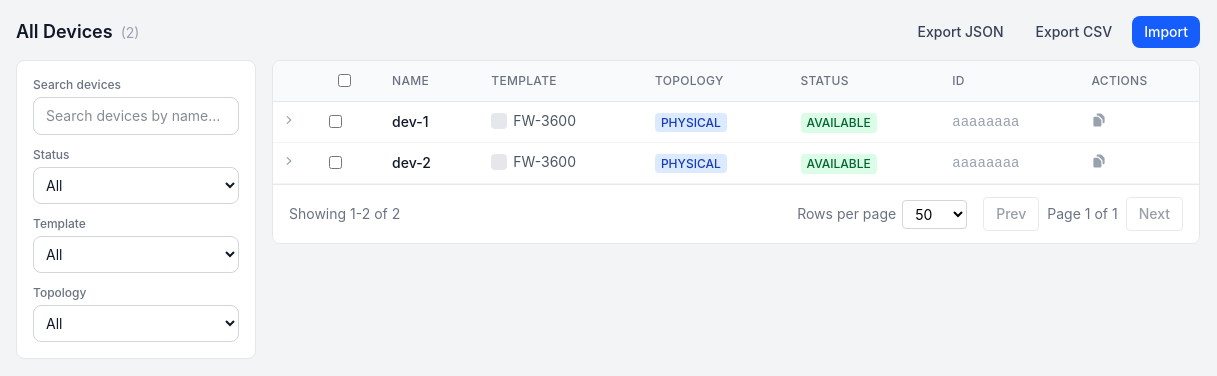
it: InventoryPage › select-all checkbox › re-selecting all after a partial selection selects the rest rather than clearing
Expected: the text "dev-1" is shown, [376,102,475,142]
Click the checkbox next to "dev-1". click: (336, 122)
box: [329,115,342,128]
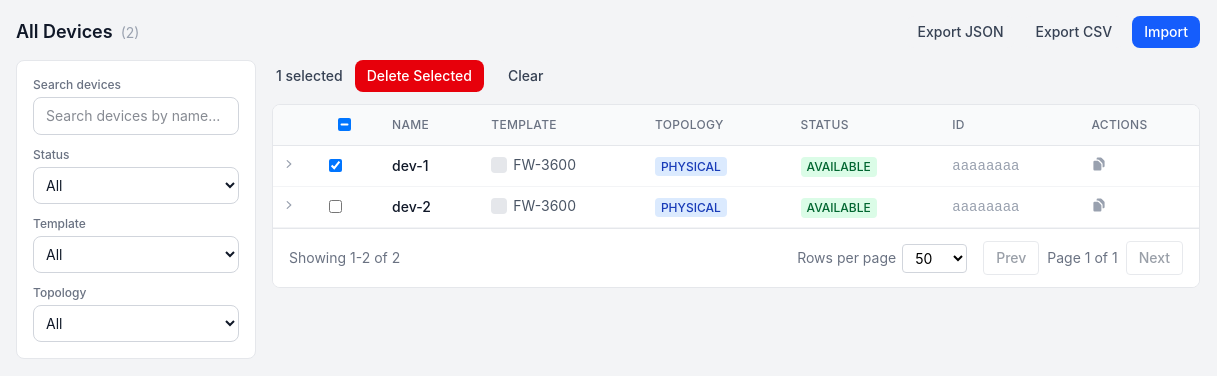
Expected: the text "1 selected" is shown, [276,66,343,86]
Click the checkbox next to "Name". click: (344, 124)
box: [338,118,351,131]
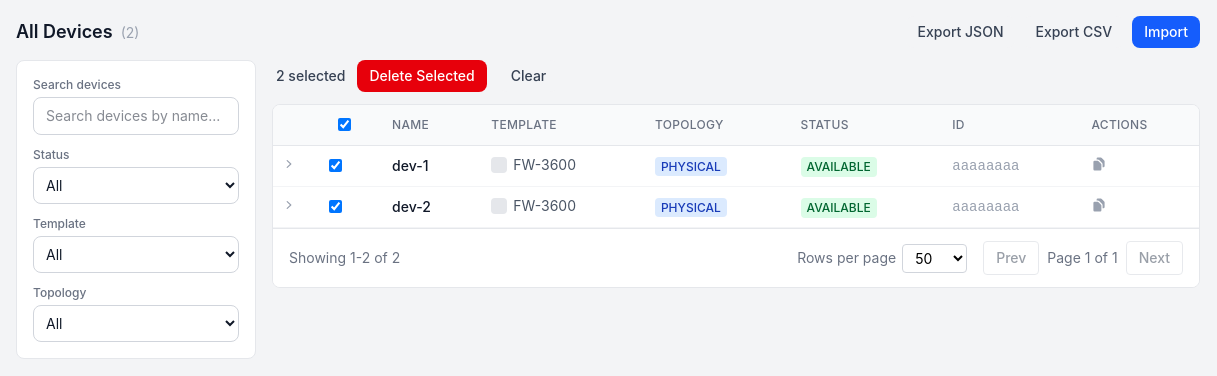
Expected: the text "2 selected" is shown, [276,66,346,86]
